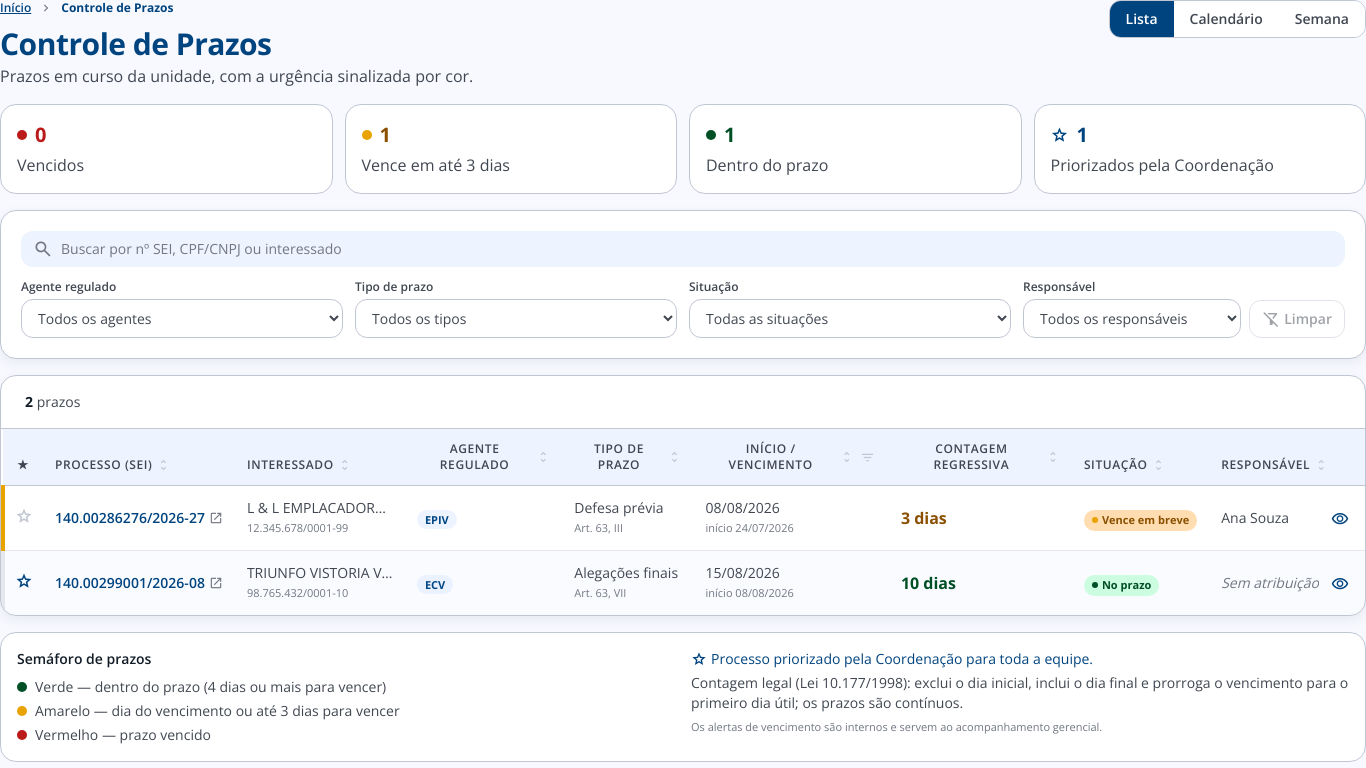
Test: PrazosPage › troca para o modo semana e mostra o intervalo de sete dias
Expected: the link "140.00286276/2026-27" is shown, top-left (55, 508), bottom-right (223, 528)
Click the tab "Semana" at (1322, 19), box top-left (1279, 1), bottom-right (1365, 37)
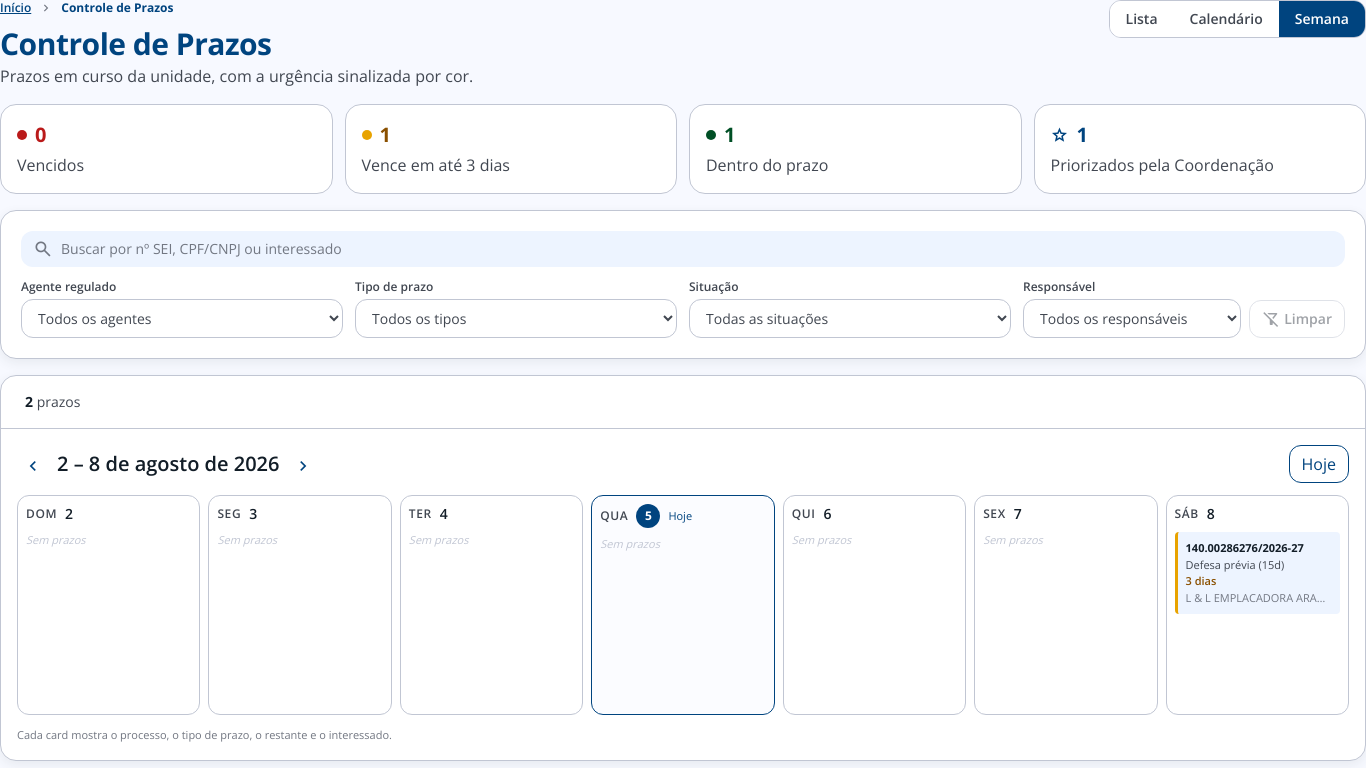
Result: the button named "Semana seguinte" is shown at top-left (288, 446), bottom-right (320, 482)
Result: the heading "2 – 8 de agosto de 2026" is shown at top-left (57, 450), bottom-right (280, 478)
